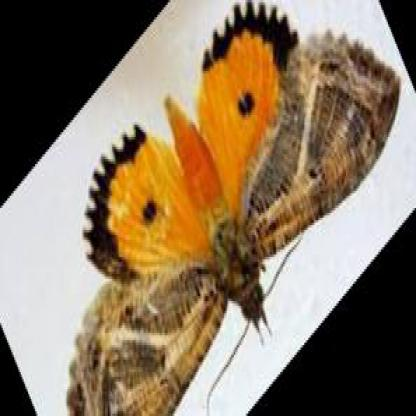fruit sucking moth: (68, 3, 402, 413)
